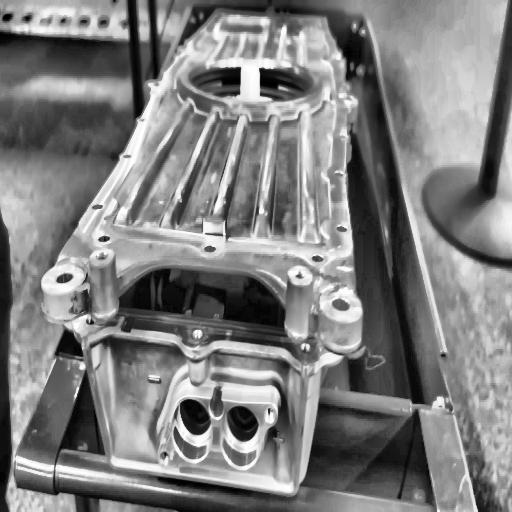bms_unit: (35, 5, 363, 499)
